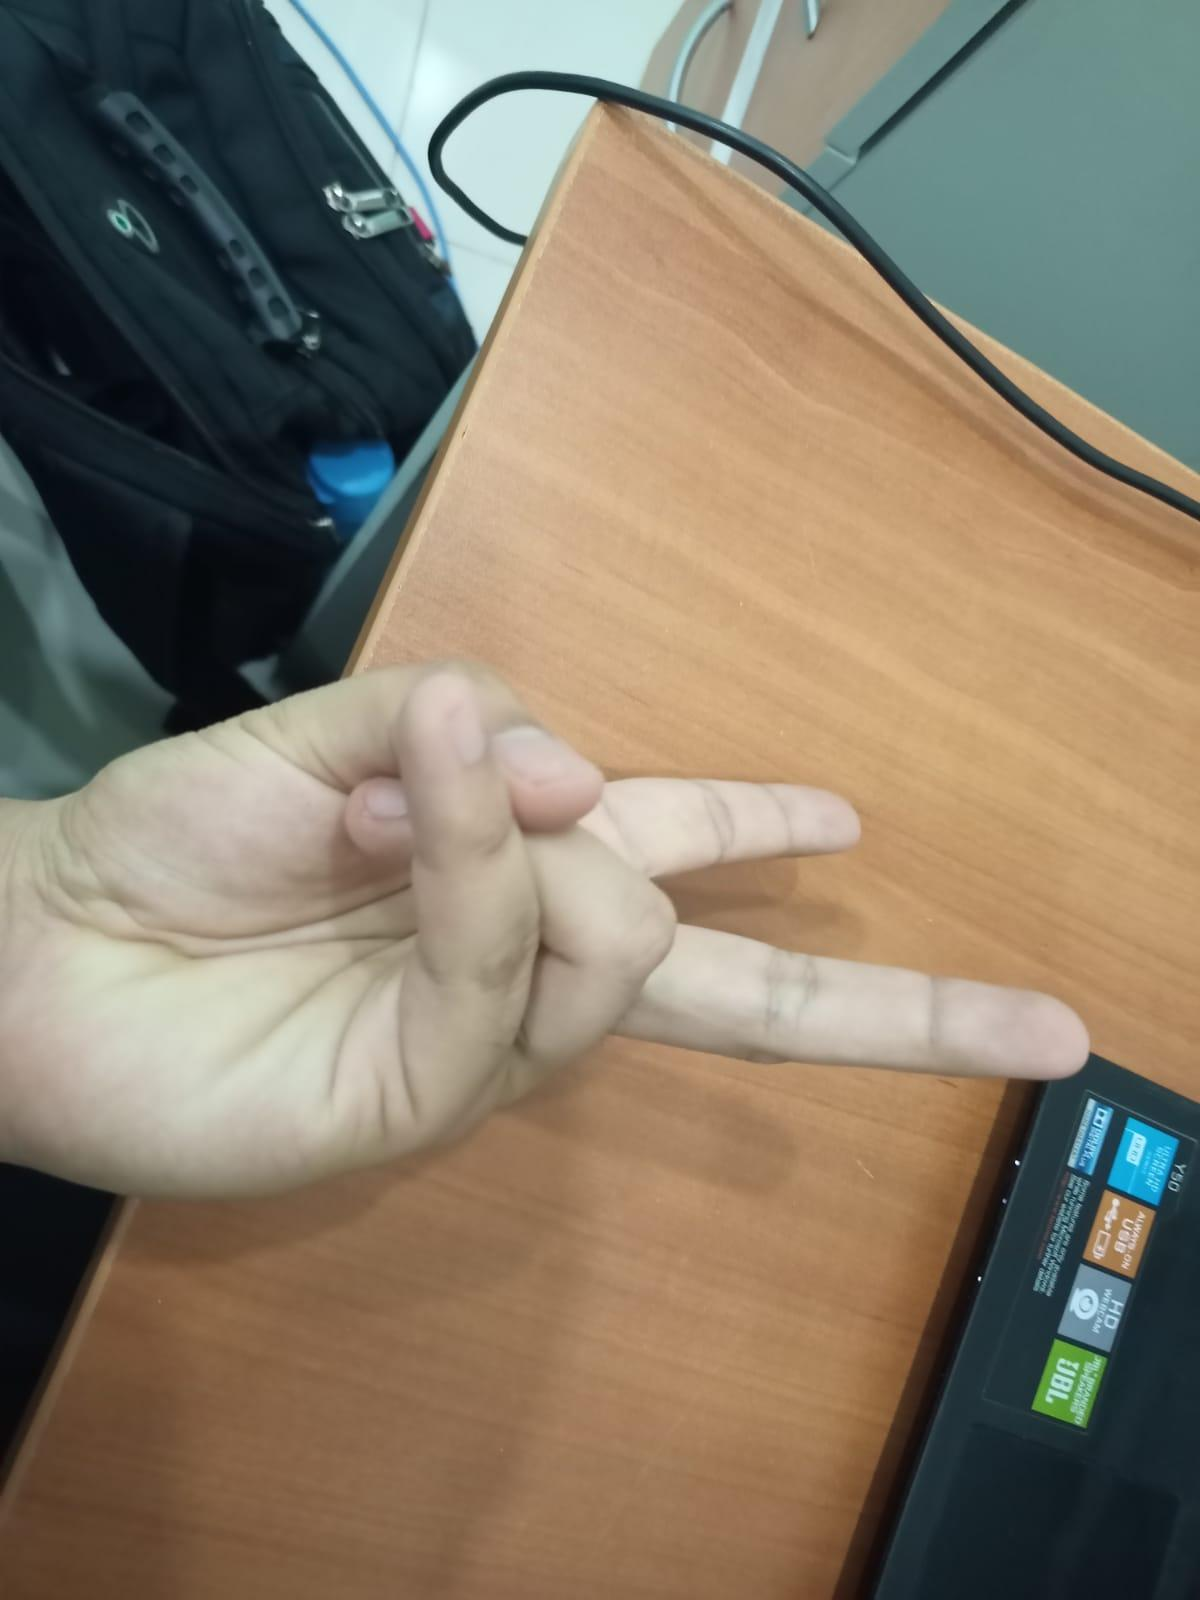Scissor: (12, 638, 1128, 1212)
